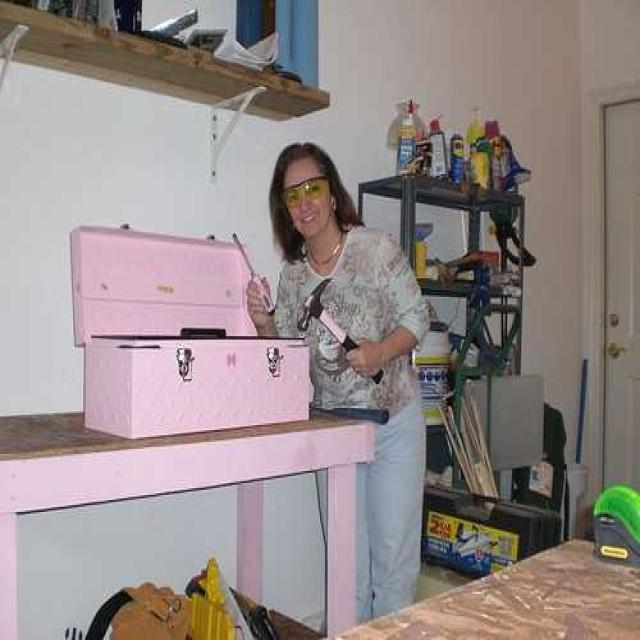hammer: (294, 275, 388, 392)
